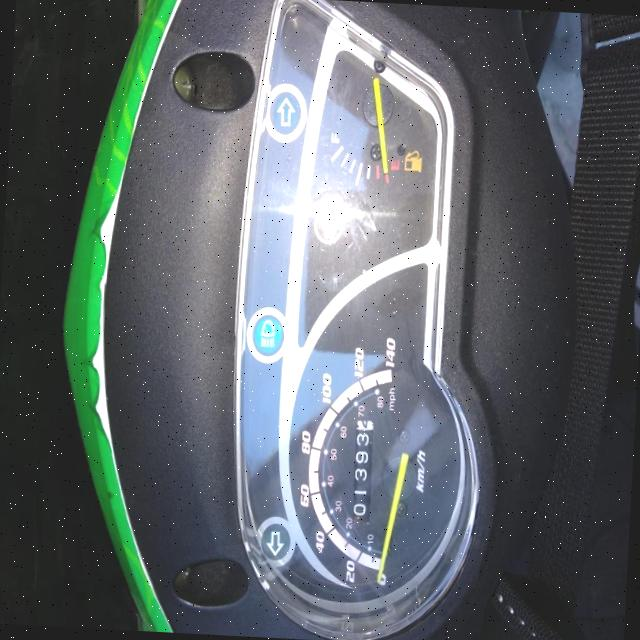odometer: (347, 416, 377, 526)
